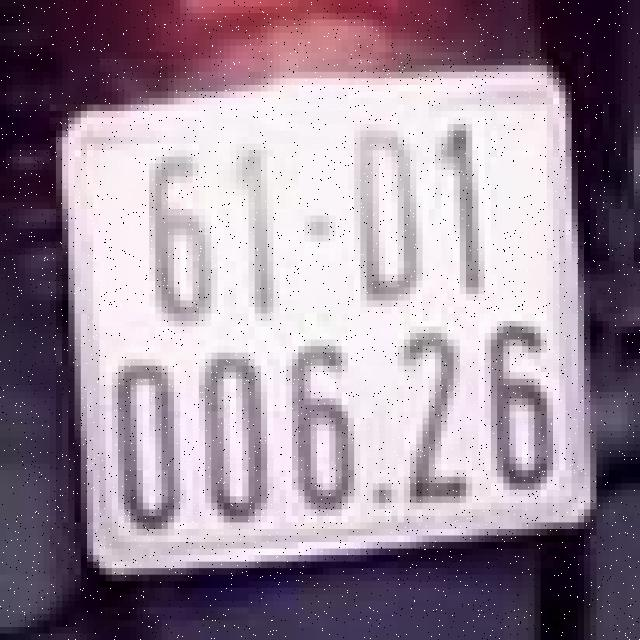0: (192, 337, 274, 532), (115, 337, 189, 546)
1: (432, 104, 506, 314), (221, 131, 295, 320)
2: (388, 304, 476, 519)
6: (273, 327, 379, 522), (134, 137, 233, 340), (478, 310, 566, 506)
D: (342, 114, 422, 317)
